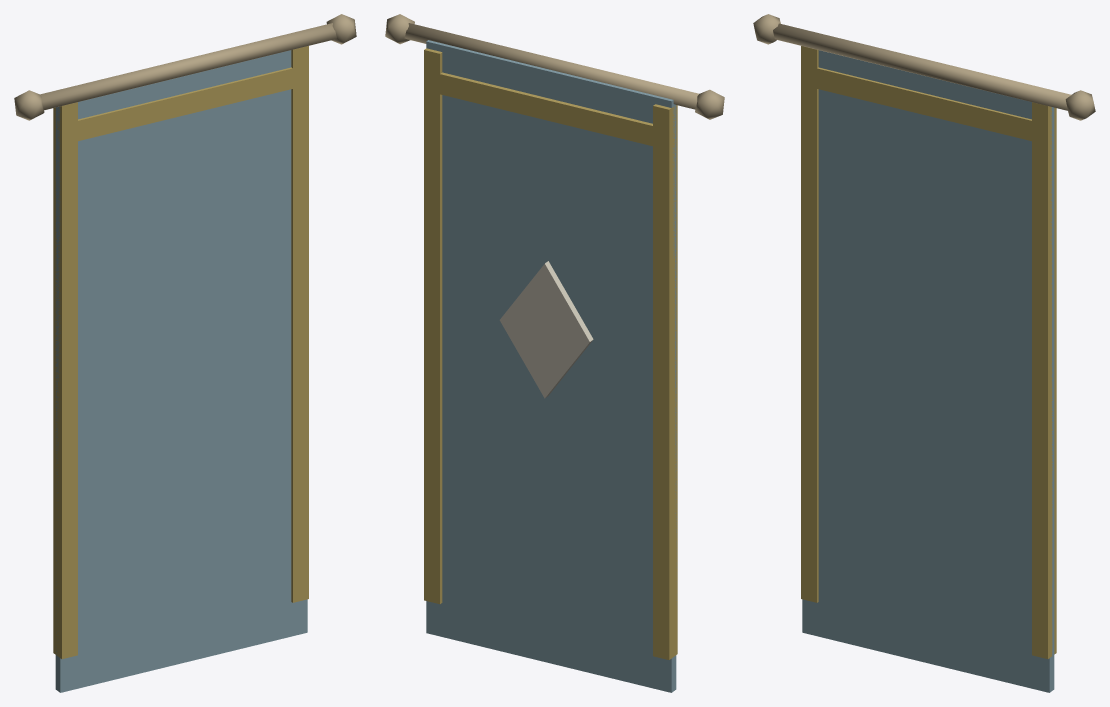
File: flocko_banner_v0.glb
3 renders of one model, left to right at view 1: azimuth 30°, elevation 25°; view 2: azimuth 150°, elevation 25°; view 3: azimuth 330°, elevation 25°, orthographic.
Visible parts, largest first — view 1: flocko_banner_v0; view 2: flocko_banner_v0; view 3: flocko_banner_v0.
Boxes of the visible parts, <box> form: flocko_banner_v0: <box>14,14,356,692</box>; flocko_banner_v0: <box>385,14,724,692</box>; flocko_banner_v0: <box>753,14,1095,692</box>.
Bounding box in the file's own units: 1.04 × 1.8 × 0.0933.
